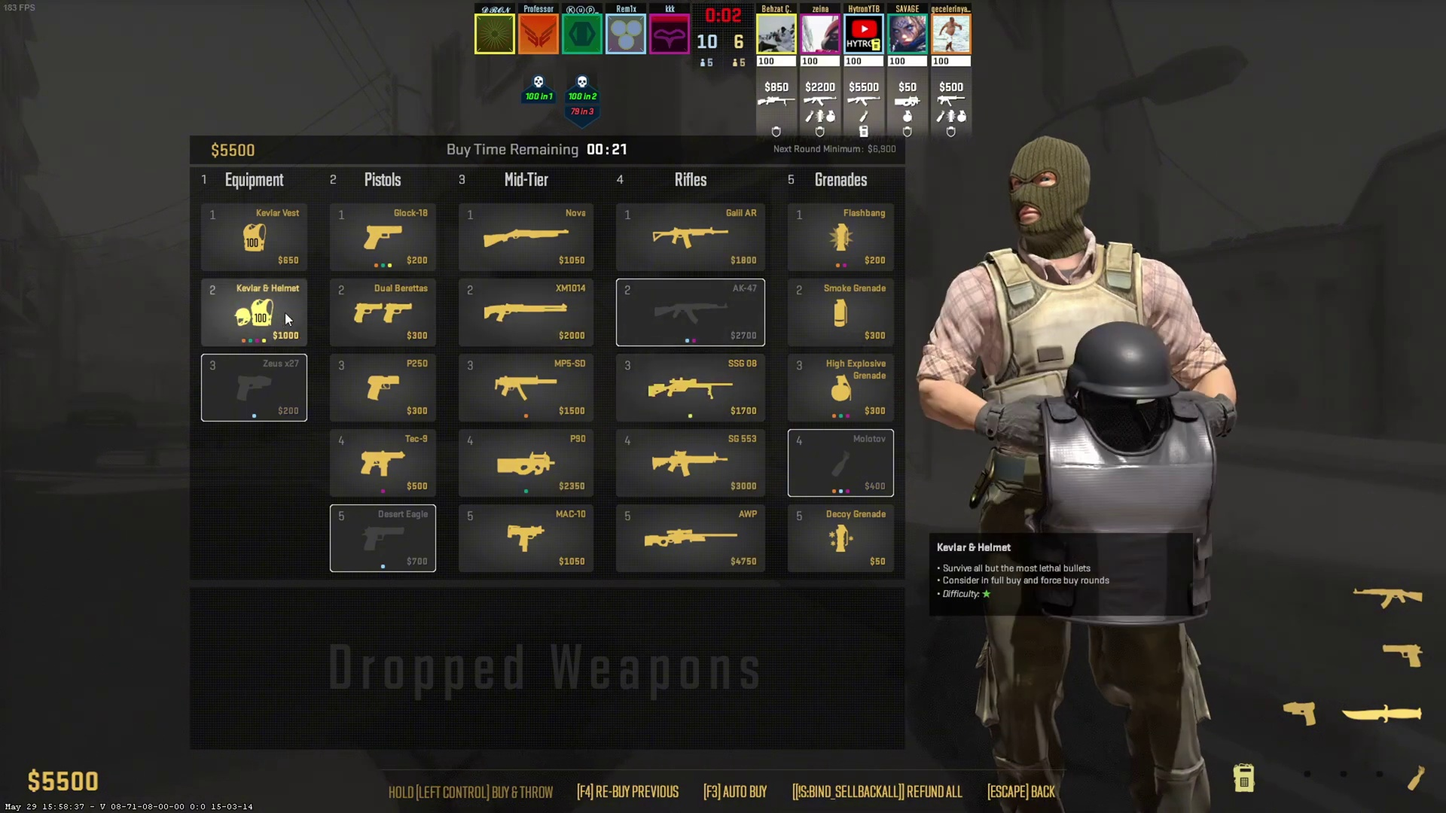Terrorist: (965, 135, 1226, 801)
